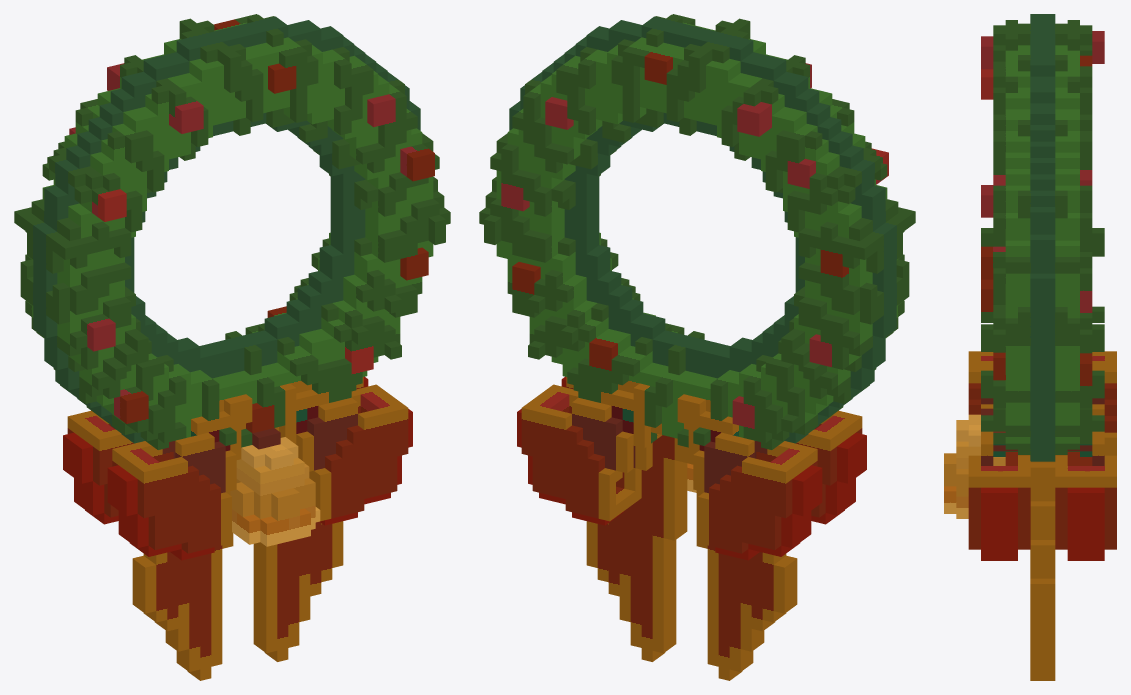
The model's file is 圣诞花环.gltf.
3 renders of one model, left to right at view 1: azimuth 30°, elevation 25°; view 2: azimuth 150°, elevation 25°; view 3: azimuth 270°, elevation 25°, orthographic. The views are drawn at different scales.
Parts seen in each view (by area): view 1: Object; view 2: Object; view 3: Object.
Part boxes in pixels (<box>): Object: <box>14,14,450,680</box>; Object: <box>479,14,915,680</box>; Object: <box>944,14,1116,680</box>.
Bounding box in the file's own units: 35 × 55 × 14.
1 material, 1 textured.
